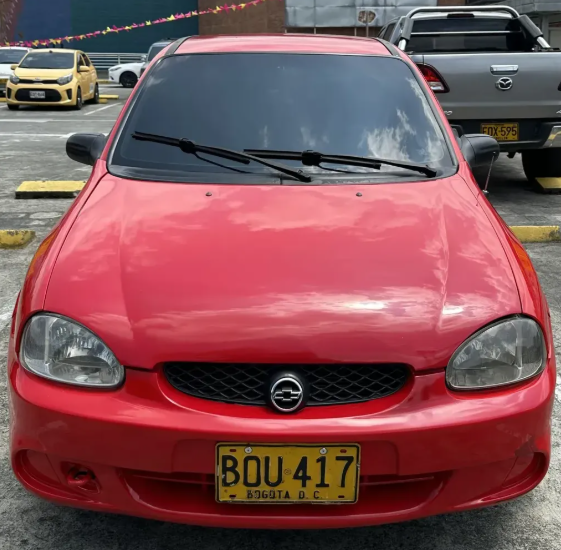placa: (211, 438, 369, 506)
